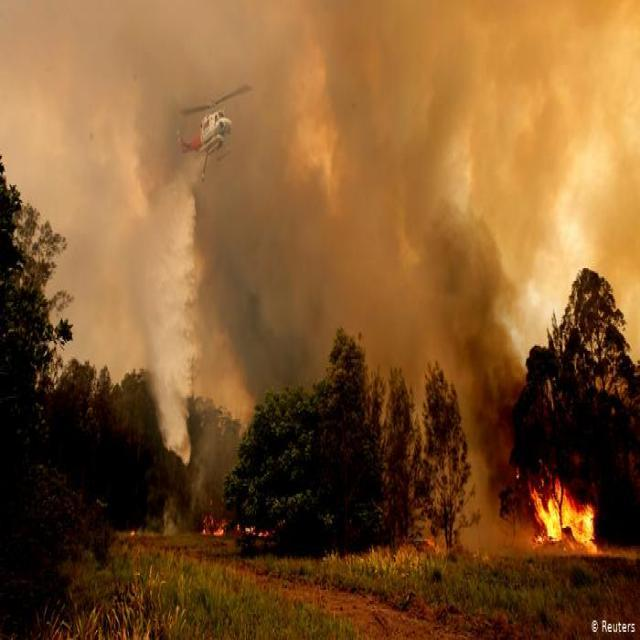Fire: (522, 442, 608, 566)
Smoke: (340, 174, 519, 554), (517, 2, 640, 367), (336, 0, 518, 173), (197, 195, 341, 409), (188, 0, 336, 192)
